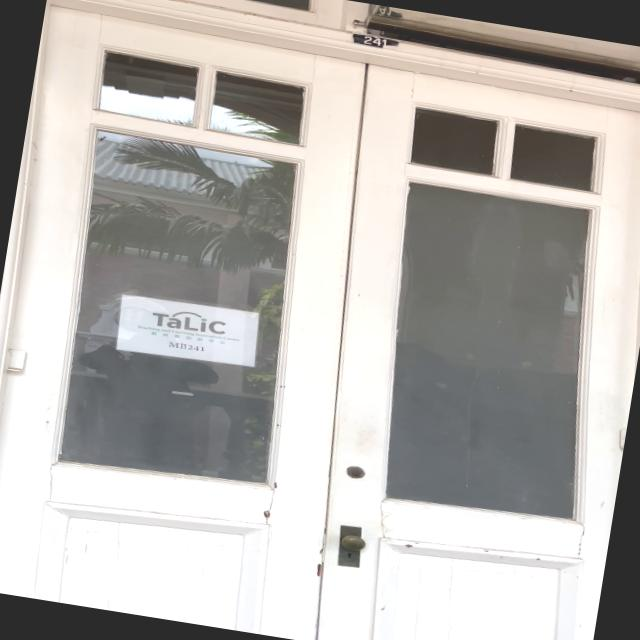room241: (346, 30, 402, 53)
